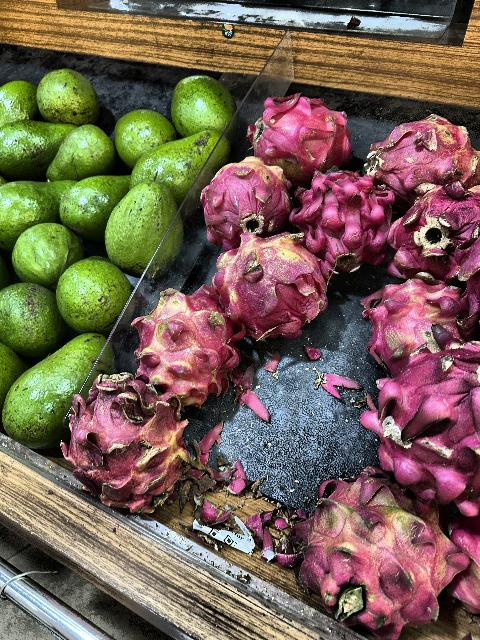buah-naga-belum-matang: (300, 463, 454, 635), (64, 368, 188, 510), (214, 230, 336, 332), (135, 284, 221, 402), (365, 111, 475, 192), (360, 278, 462, 358), (203, 152, 291, 234)
buah-naga-matang: (366, 344, 480, 496), (380, 177, 480, 289), (294, 166, 384, 260), (250, 94, 348, 168)
